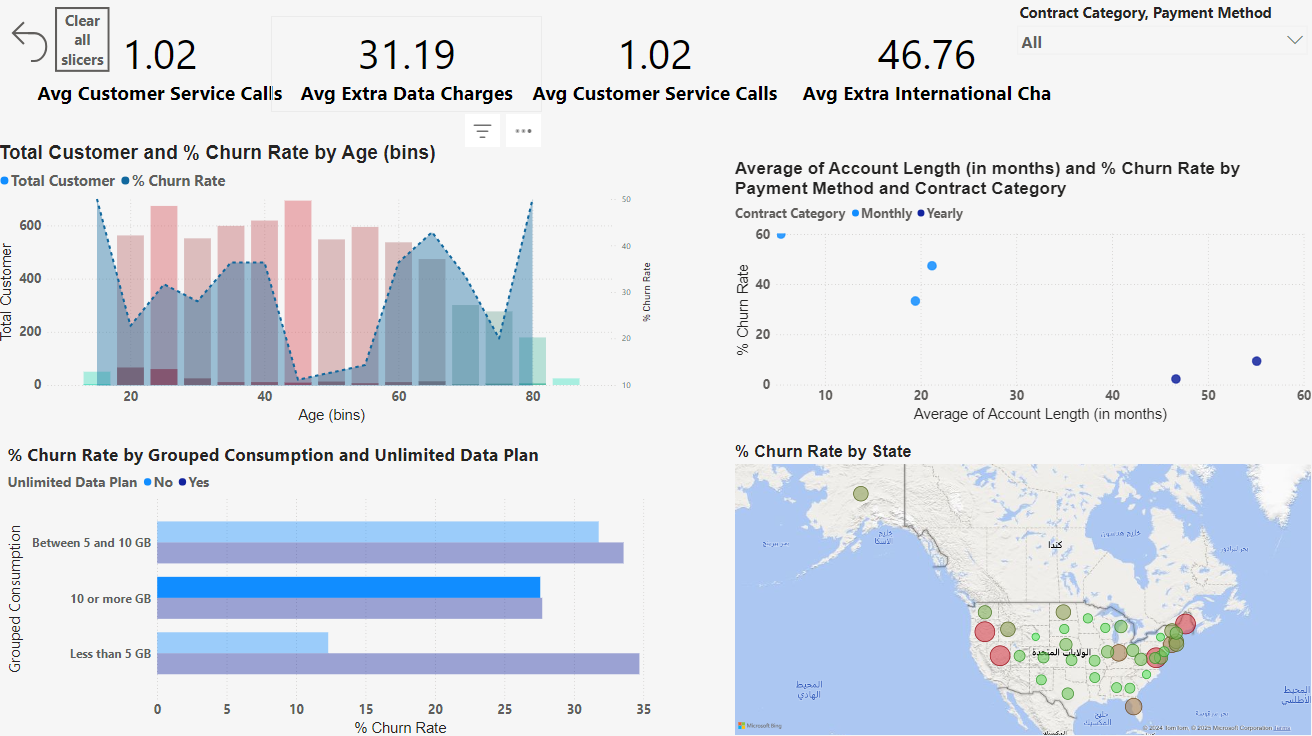

What the dashboard file says about the page in this screenshot:
{"tool":"powerbi","page":{"name":"Customer Overview","canvas":[1920,1080],"ordinal":1},"visuals":[{"type":"card","fields":{"Values":["#Measures.Avg Customer Service Calls"]},"box":[43.5,27.2,391.6,138.7],"z":0},{"type":"map","fields":{"Category":["Databel - Data.State"],"Size":["#Measures.% Churn Rate"]},"box":[1071.5,647.3,848.5,432.4],"z":1000},{"type":"clusteredBarChart","fields":{"Category":["Databel - Data.Grouped Consumption"],"Series":["Databel - Data.Unlimited Data Plan"],"Y":["#Measures.% Churn Rate"]},"box":[13.6,647.3,946.4,432.4],"z":2000},{"type":"scatterChart","fields":{"X":["Databel - Data.Account Length (in months)"],"Category":["Databel - Data.Payment Method"],"Series":["Databel - Data.Contract Category"],"Y":["#Measures.% Churn Rate"]},"box":[1071.5,233.9,848.5,388.9],"z":3000},{"type":"slicer","fields":{"Values":["Databel - Data.Contract Category","Databel - Data.Payment Method"]},"box":[1478.4,0,442.3,208.7],"z":4000},{"type":"lineStackedColumnComboChart","fields":{"Category":["Databel - Data.Age (bins)"],"Y":["#Measures.Total Customer"],"Y2":["#Measures.% Churn Rate"]},"box":[0,209.4,960,413.4],"z":6000},{"type":"card","fields":{"Values":["#Measures.Avg Extra Data Charges"]},"box":[402.5,27.2,394.3,138.7],"z":7000},{"type":"card","fields":{"Values":["#Measures.Avg Customer Service Calls"]},"box":[764.2,27.2,391.6,138.7],"z":8000},{"type":"card","fields":{"Values":["#Measures.Avg Extra International Charges"]},"box":[1155.8,27.2,402.5,138.7],"z":9000},{"type":"actionButton","box":[87,12.4,79.5,94.4],"z":10000},{"type":"actionButton","box":[12.4,22.4,74.5,84.5],"z":11000}]}

Visuals, with their boxes in screenshot pixels (x1, y1, x2, y2), scaled from the page's 1920x1080 canvas onto the 1312x736 screenshot:
card - #Measures.Avg Customer Service Calls: (x1=30, y1=19, x2=297, y2=113)
map - Databel - Data.State x #Measures.% Churn Rate: (x1=732, y1=441, x2=1311, y2=735)
clusteredBarChart - Databel - Data.Grouped Consumption x Databel - Data.Unlimited Data Plan: (x1=9, y1=441, x2=656, y2=735)
scatterChart - Databel - Data.Account Length (in months) x Databel - Data.Payment Method: (x1=732, y1=159, x2=1311, y2=424)
slicer - Databel - Data.Contract Category x Databel - Data.Payment Method: (x1=1010, y1=0, x2=1311, y2=142)
lineStackedColumnComboChart - Databel - Data.Age (bins) x #Measures.Total Customer: (x1=0, y1=143, x2=656, y2=424)
card - #Measures.Avg Extra Data Charges: (x1=275, y1=19, x2=544, y2=113)
card - #Measures.Avg Customer Service Calls: (x1=522, y1=19, x2=790, y2=113)
card - #Measures.Avg Extra International Charges: (x1=790, y1=19, x2=1065, y2=113)
actionButton: (x1=59, y1=8, x2=114, y2=73)
actionButton: (x1=8, y1=15, x2=59, y2=73)
